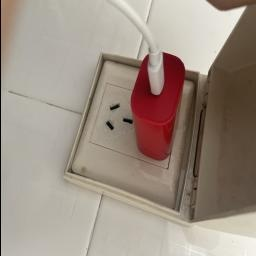outlet: (56, 32, 209, 224)
